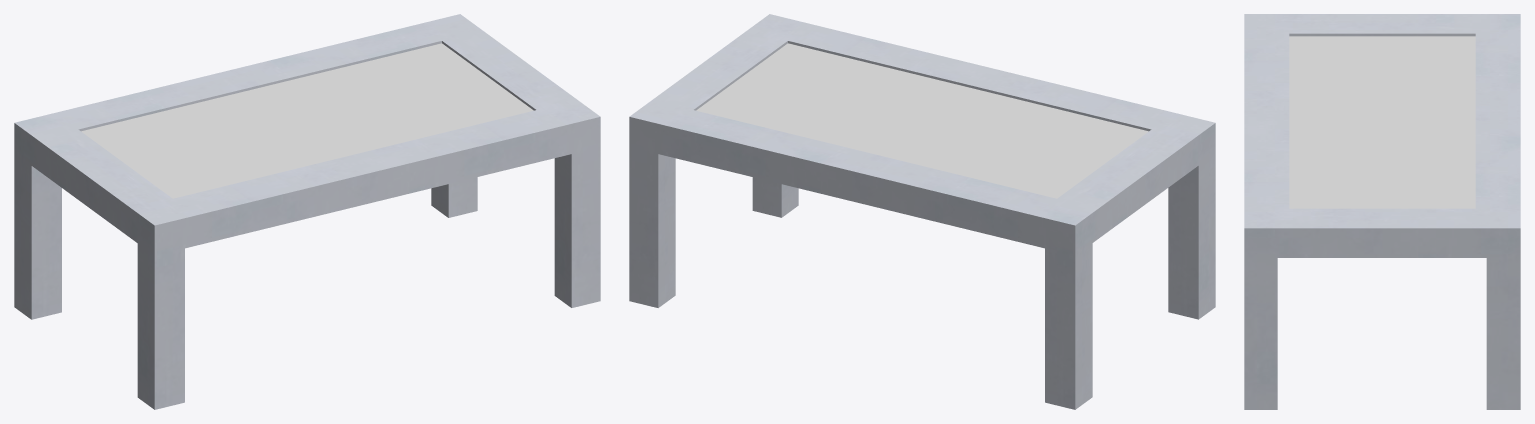
Rendered from Table_32.glb.
The picture shows the model from 3 angles, left to right: view 1: azimuth 30°, elevation 25°; view 2: azimuth 150°, elevation 25°; view 3: azimuth 270°, elevation 25°; orthographic projection.
Visible parts, largest first — view 1: Table_32; view 2: Table_32; view 3: Table_32.
Part boxes in pixels (<box>): Table_32: <box>14,14,600,409</box>; Table_32: <box>629,14,1215,409</box>; Table_32: <box>1244,14,1520,409</box>.
Bounding box in the file's own units: 1.2 × 0.4757 × 0.6564.
Materials: 2 (1 with a texture image).
